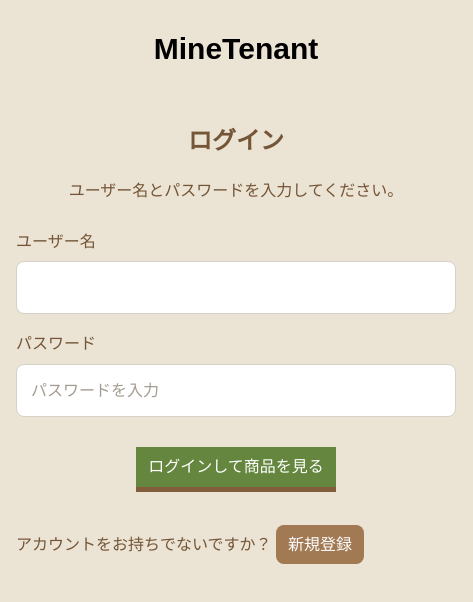
Test: MineTenant routes › 認証情報が間違っている場合は画面遷移しない
The image size is (473, 602).
Type "demo_user" into the field labelled "ユーザー名".
click(236, 288); type("demo_user")  # box [16,261,456,314]
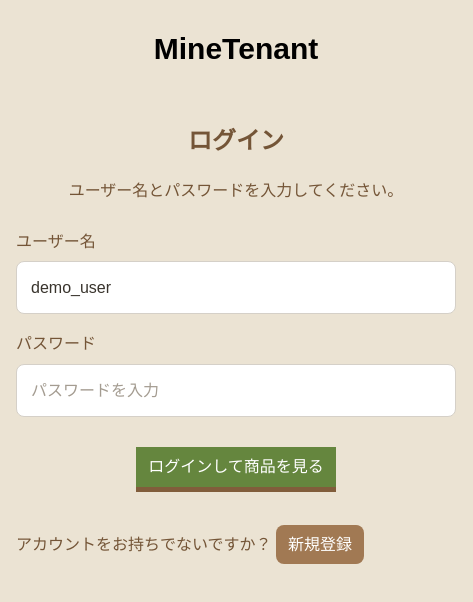
Type "wrong-password" into the password field labelled "パスワード".
click(236, 390); type("wrong-password")  # box [16,364,456,417]
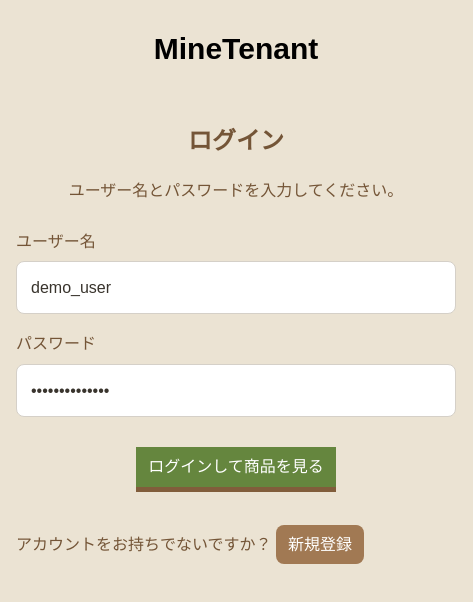
Click the button "ログインして商品を見る".
click(236, 467)  # box [136,447,336,487]
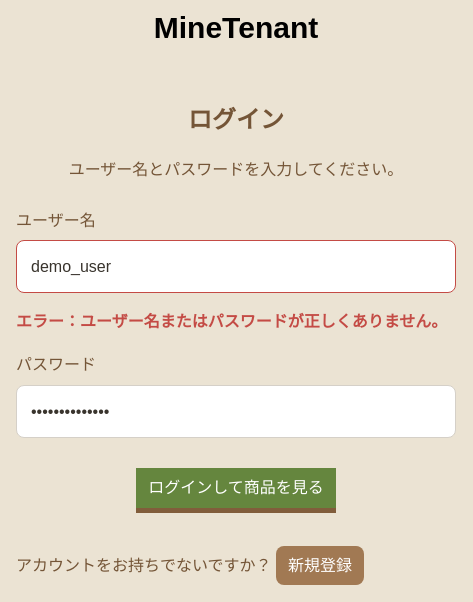
Expected: the text "ユーザー名またはパスワードが正しくありません。" is shown, [80,313,447,330]
